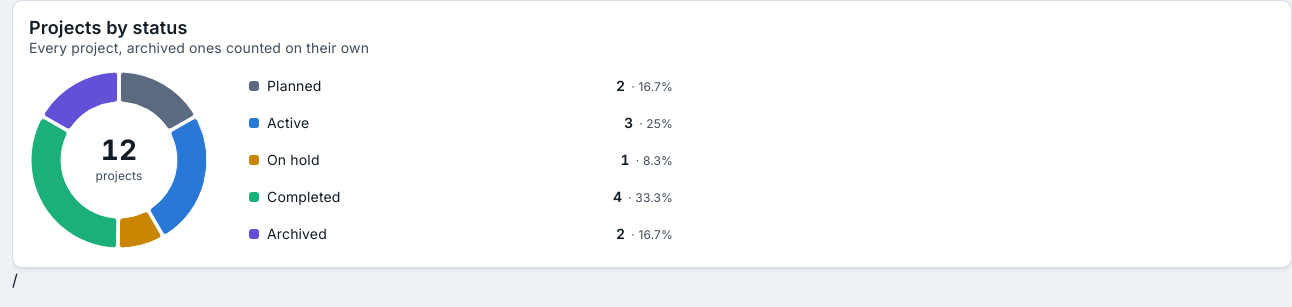
Test: Projects by status card › each status links to its filtered list; archived goes to the archive filtered to projects
The width and height of the screenshot is (1292, 307).
What coordinates should you click on to do the following:
click the link with aria-label "on hold:"
I would click on:
 (293, 160)
Its box is [249,151,673,168].
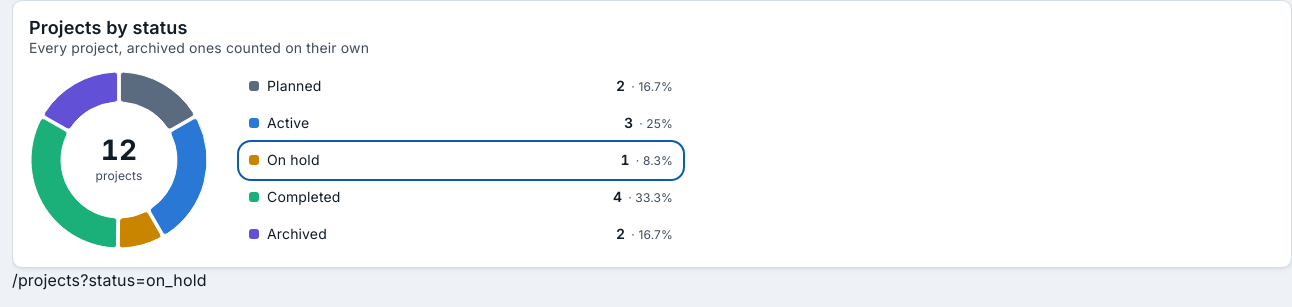
Expected: the text with test id "location" reads "/projects?status=on_hold", [12,270,207,290]
